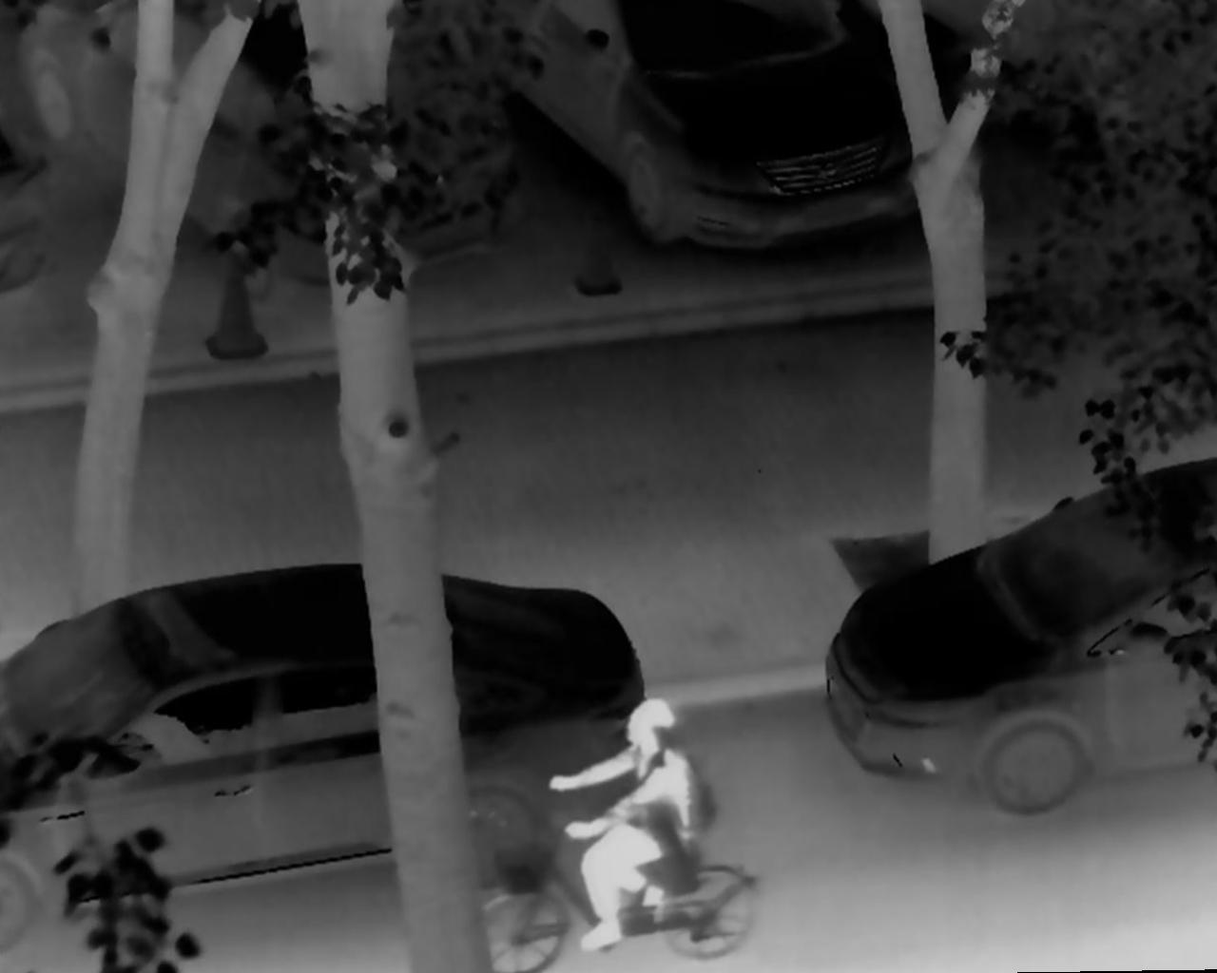person: (540, 697, 706, 947)
